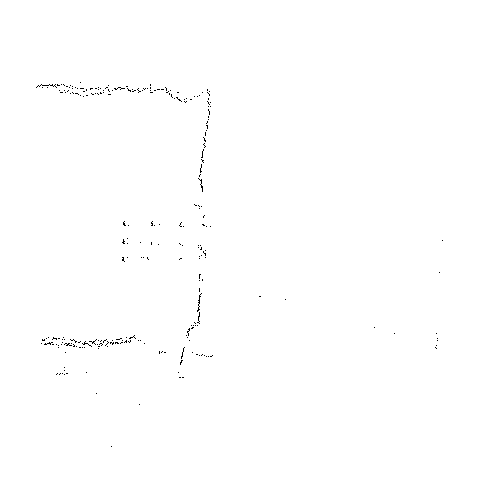pallet: (120, 218, 186, 262)
